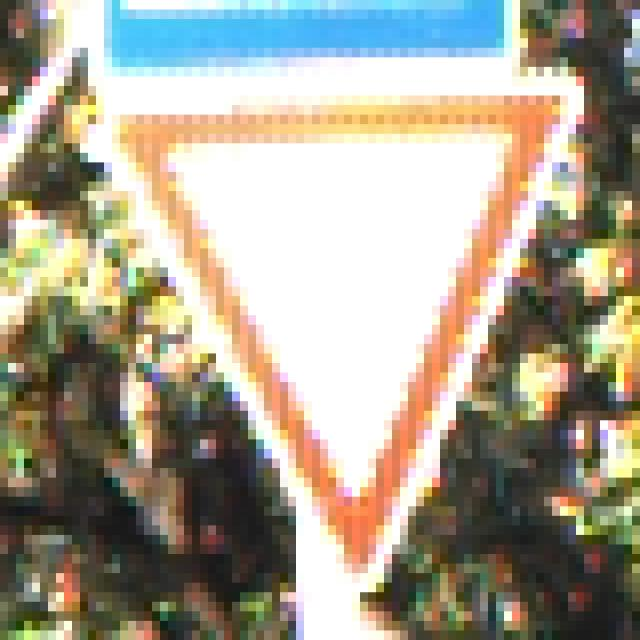Give Way: (57, 58, 585, 584)
